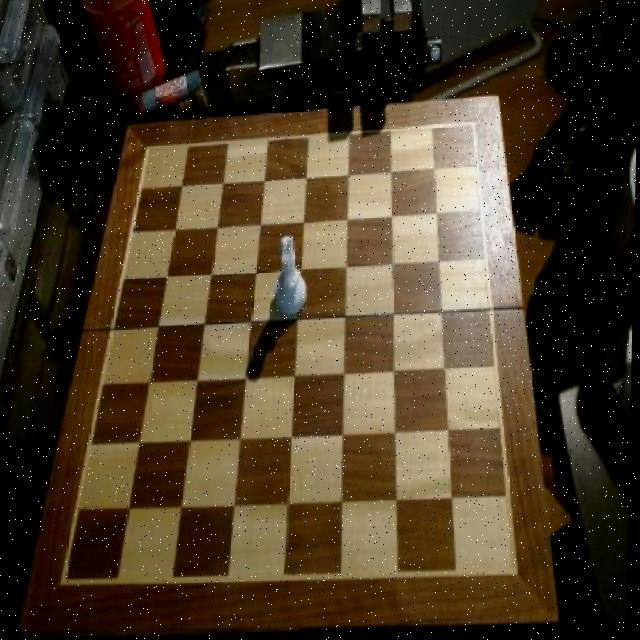white-king: (273, 234, 312, 320)
